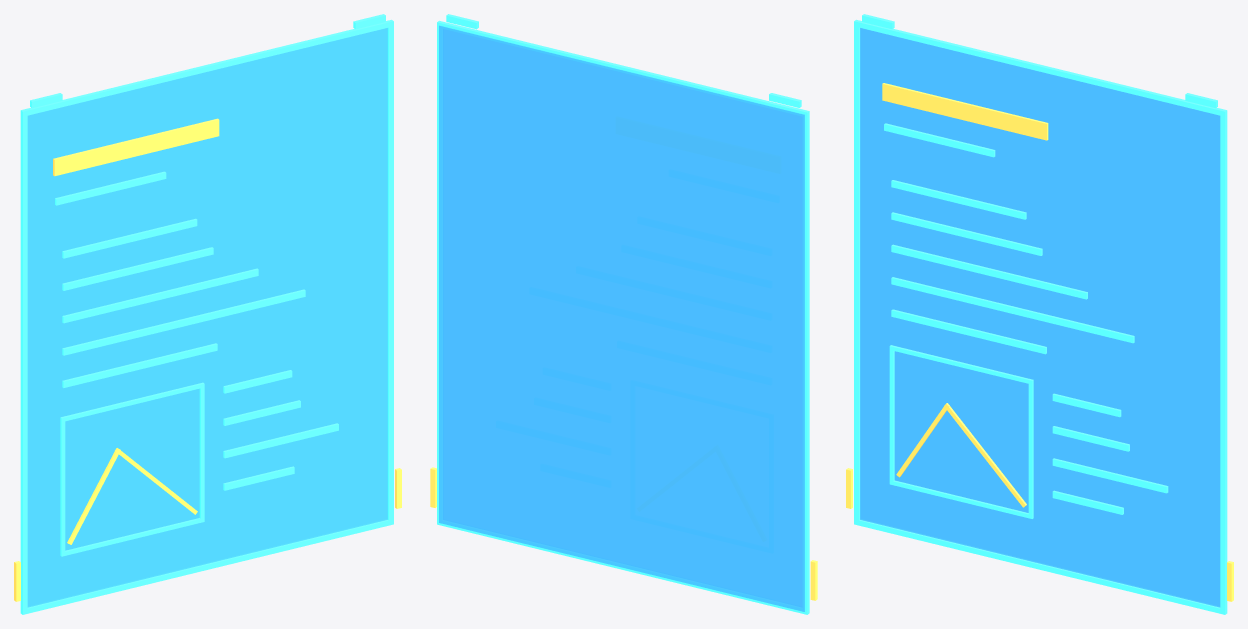
File: holo_document.glb
The picture shows the model from 3 angles, left to right: view 1: azimuth 30°, elevation 25°; view 2: azimuth 150°, elevation 25°; view 3: azimuth 330°, elevation 25°; orthographic projection.
Parts seen in each view (by area): view 1: holo_document; view 2: holo_document; view 3: holo_document.
Part boxes in pixels (x1,y1,x2,y2): holo_document: (14,14,401,614); holo_document: (430,14,817,614); holo_document: (846,14,1233,614).
Bounding box in the file's own units: 0.632 × 0.801 × 0.012.
